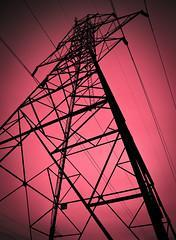power_tower: (1, 10, 157, 240)
